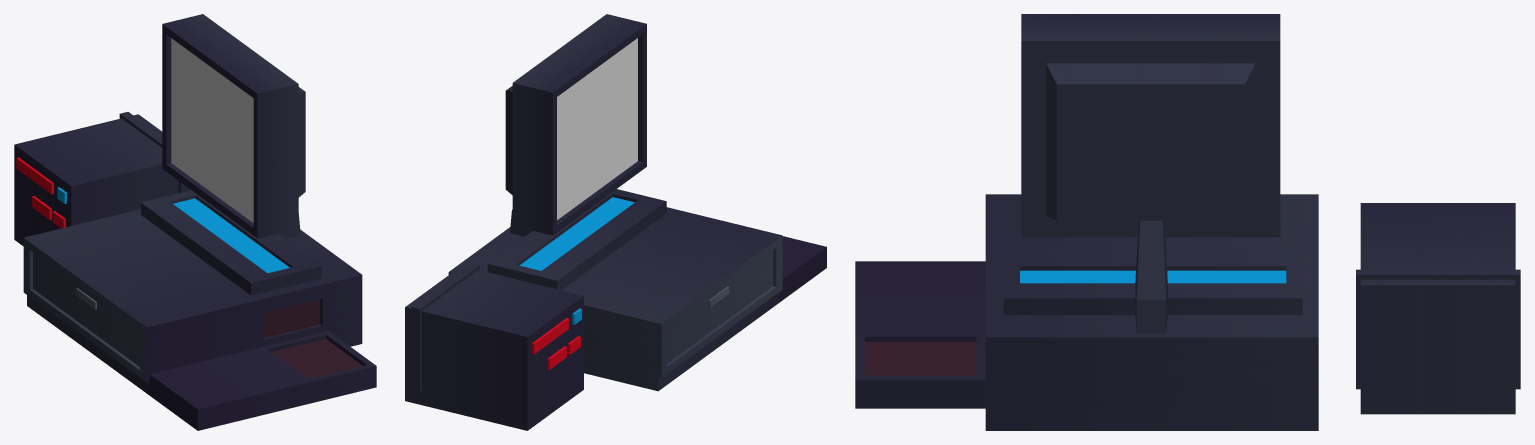
File: Store_CashRegister.fbx
The picture shows the model from 3 angles, left to right: view 1: azimuth 30°, elevation 25°; view 2: azimuth 150°, elevation 25°; view 3: azimuth 270°, elevation 25°; orthographic projection. The views are drawn at different scales.
Visible parts, largest first — view 1: Cashier; view 2: Cashier; view 3: Cashier.
Part boxes in pixels (left/top/right/bottom): Cashier: left=14, top=14, right=376, bottom=430; Cashier: left=405, top=14, right=826, bottom=430; Cashier: left=855, top=14, right=1520, bottom=430.
Size of the model in its own units: 34.21 by 40.02 by 67.31.
